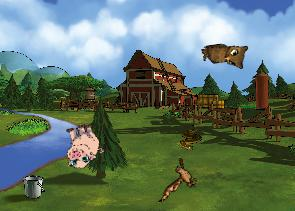eagle: (158, 155, 200, 206)
owl: (200, 40, 250, 74)
pig: (58, 120, 105, 170)
